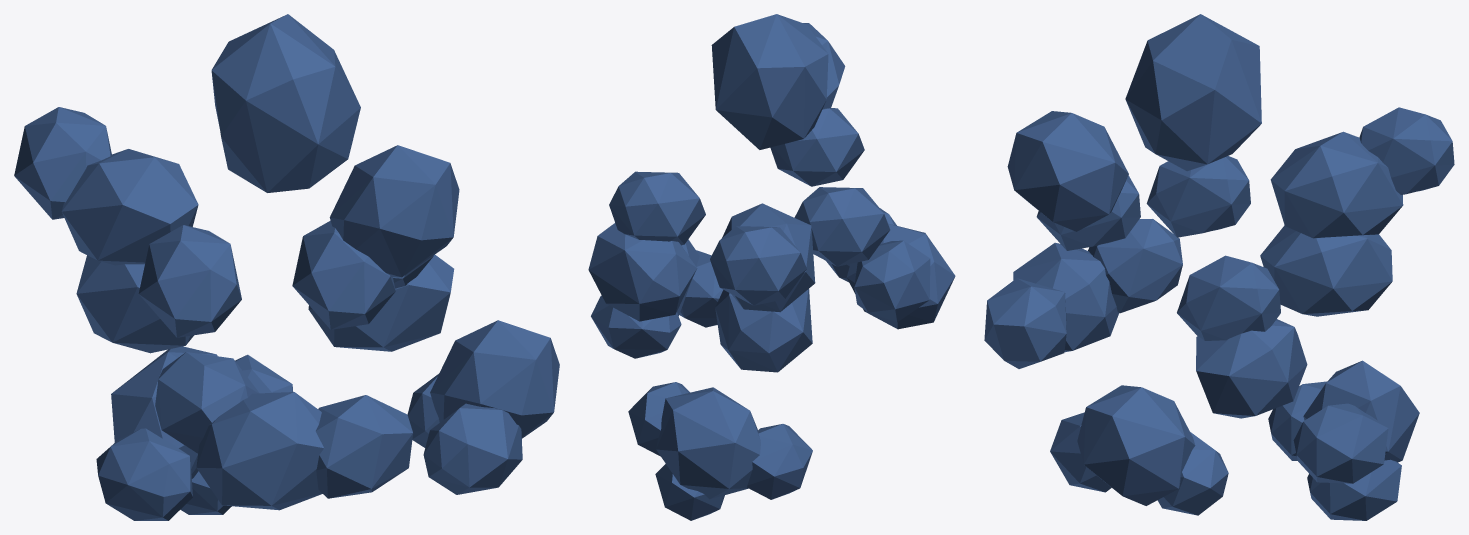
The model's file is tree-winter-leaves-037.glb.
3 views of the same model, side by side, from view 1: azimuth 30°, elevation 25°; view 2: azimuth 150°, elevation 25°; view 3: azimuth 270°, elevation 25° (orthographic). The views are drawn at different scales.
Parts seen in each view (by area): view 1: Sphere.005_180; view 2: Sphere.005_180; view 3: Sphere.005_180.
Part boxes in pixels (x1,y1,x2,y2): Sphere.005_180: (14,14,559,520); Sphere.005_180: (588,14,955,520); Sphere.005_180: (984,14,1454,520).
Bounding box in the file's own units: 1.08 × 1.44 × 1.23.
